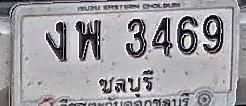3: (126, 18, 146, 58)
4: (152, 17, 172, 57)
6: (177, 16, 198, 54)
9: (202, 14, 224, 54)
A07: (45, 21, 67, 62)
A30: (76, 20, 102, 61)
CBI: (94, 68, 153, 99)
